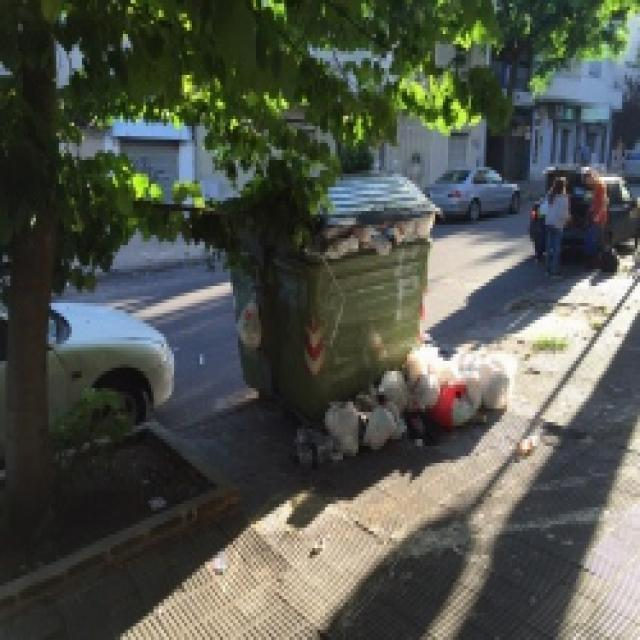high trash: (296, 344, 516, 466)
